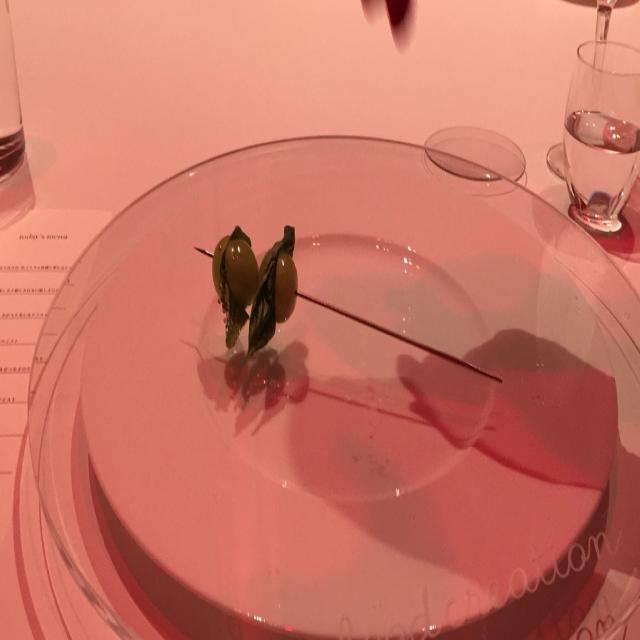non-organic waste: (24, 166, 640, 640)
